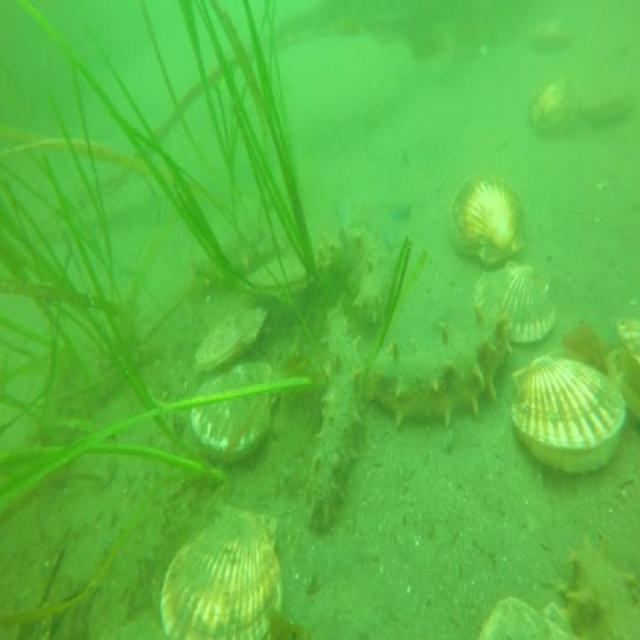holothurian: (369, 314, 512, 434), (298, 306, 364, 532), (320, 206, 401, 338), (555, 531, 640, 640), (190, 237, 268, 288)
scallop: (149, 505, 282, 640), (509, 352, 627, 483), (188, 358, 279, 464), (473, 259, 559, 349), (451, 169, 528, 267), (479, 584, 581, 640), (193, 303, 268, 378), (599, 306, 640, 432), (524, 66, 578, 141), (577, 62, 635, 126), (250, 258, 318, 300), (526, 15, 572, 56)
waterweeds: (0, 2, 320, 540)
